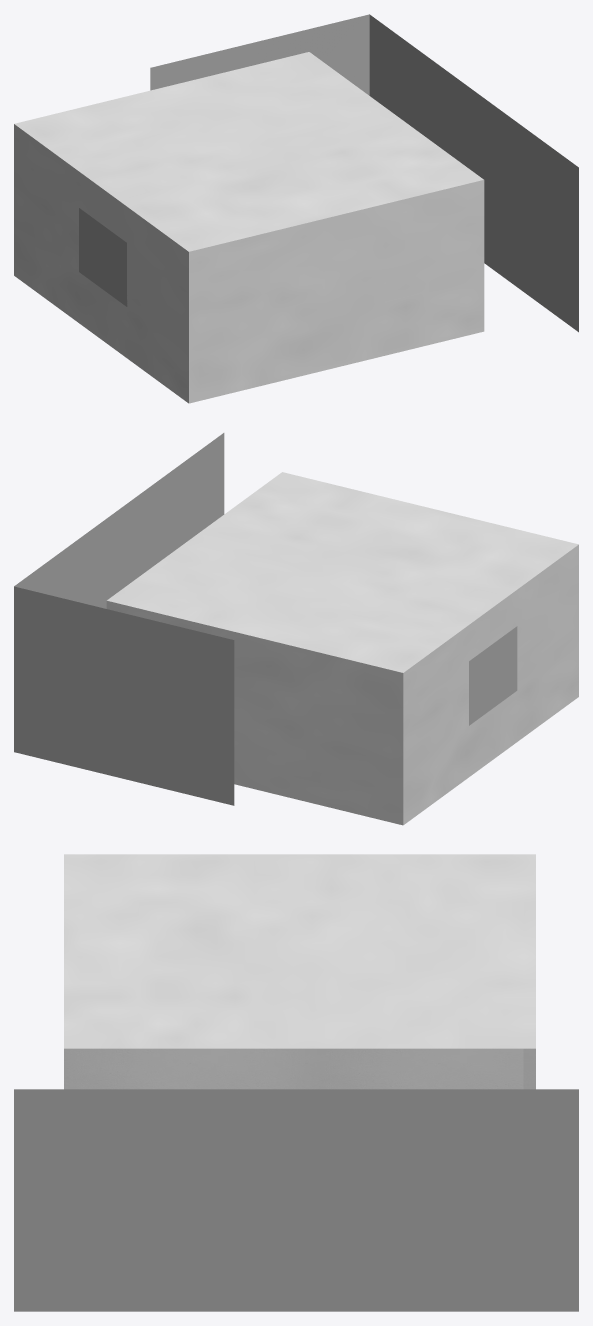
3 views of the same model, one above another, from view 1: azimuth 30°, elevation 25°; view 2: azimuth 150°, elevation 25°; view 3: azimuth 270°, elevation 25° (orthographic). The views are drawn at different scales.
Parts seen in each view (by area): view 1: Paredes, PlanosExterior, PlanoDia; view 2: Paredes, PlanosExterior, PlanoDia; view 3: PlanosExterior, Paredes, paredfalsa.
Part boxes in pixels (box(x1,y1,x2,y2)): Paredes: box(14, 52, 484, 403); PlanosExterior: box(150, 14, 578, 332); PlanoDia: box(79, 208, 126, 306); Paredes: box(106, 472, 578, 825); PlanosExterior: box(14, 433, 234, 805); PlanoDia: box(469, 626, 517, 725); PlanosExterior: box(14, 1089, 578, 1311); Paredes: box(64, 854, 535, 1080); paredfalsa: box(64, 1048, 535, 1089).
Bounding box in the file's own units: 7.79 × 3.3 × 7.6.
15 materials, 8 textured.
